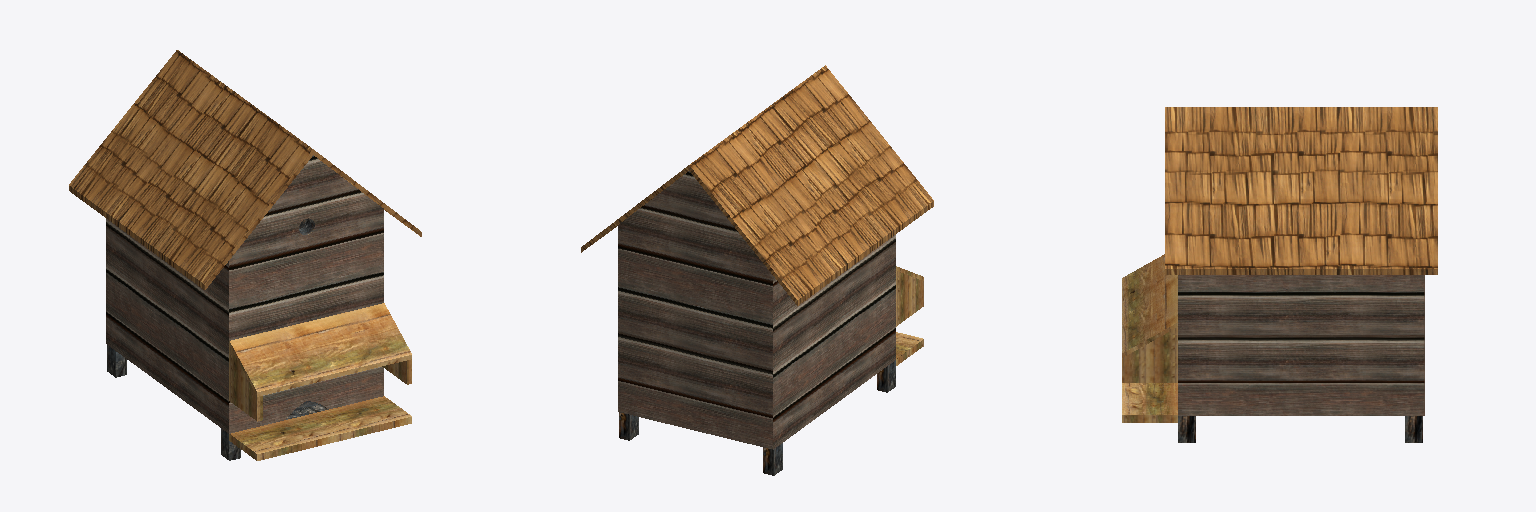
3 renders of one model, left to right at view 1: azimuth 30°, elevation 25°; view 2: azimuth 150°, elevation 25°; view 3: azimuth 270°, elevation 25°, orthographic.
Parts seen in each view (by area): view 1: obj1; view 2: obj1; view 3: obj1.
Boxes of the visible parts, <box> form: obj1: <box>69,50,421,460</box>; obj1: <box>581,65,933,475</box>; obj1: <box>1122,107,1437,442</box>.
Bounding box in the file's own units: 0.84 × 1.1 × 1.06.
Materials: 1 (1 with a texture image).